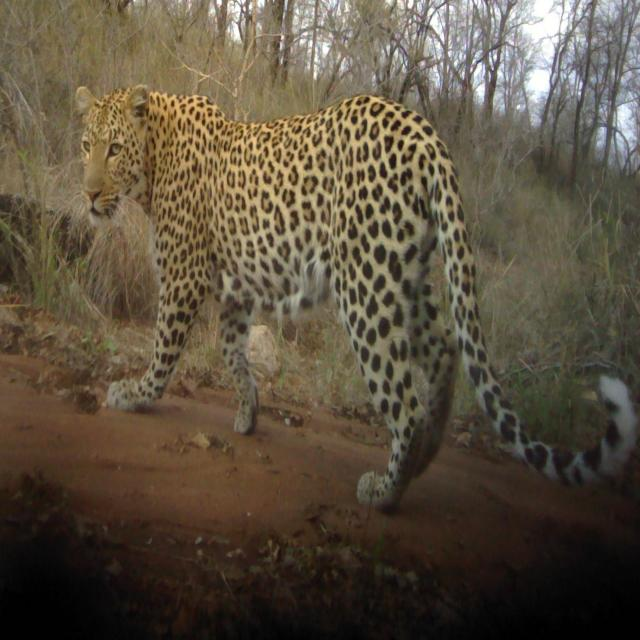Leopard: (80, 80, 620, 518)
